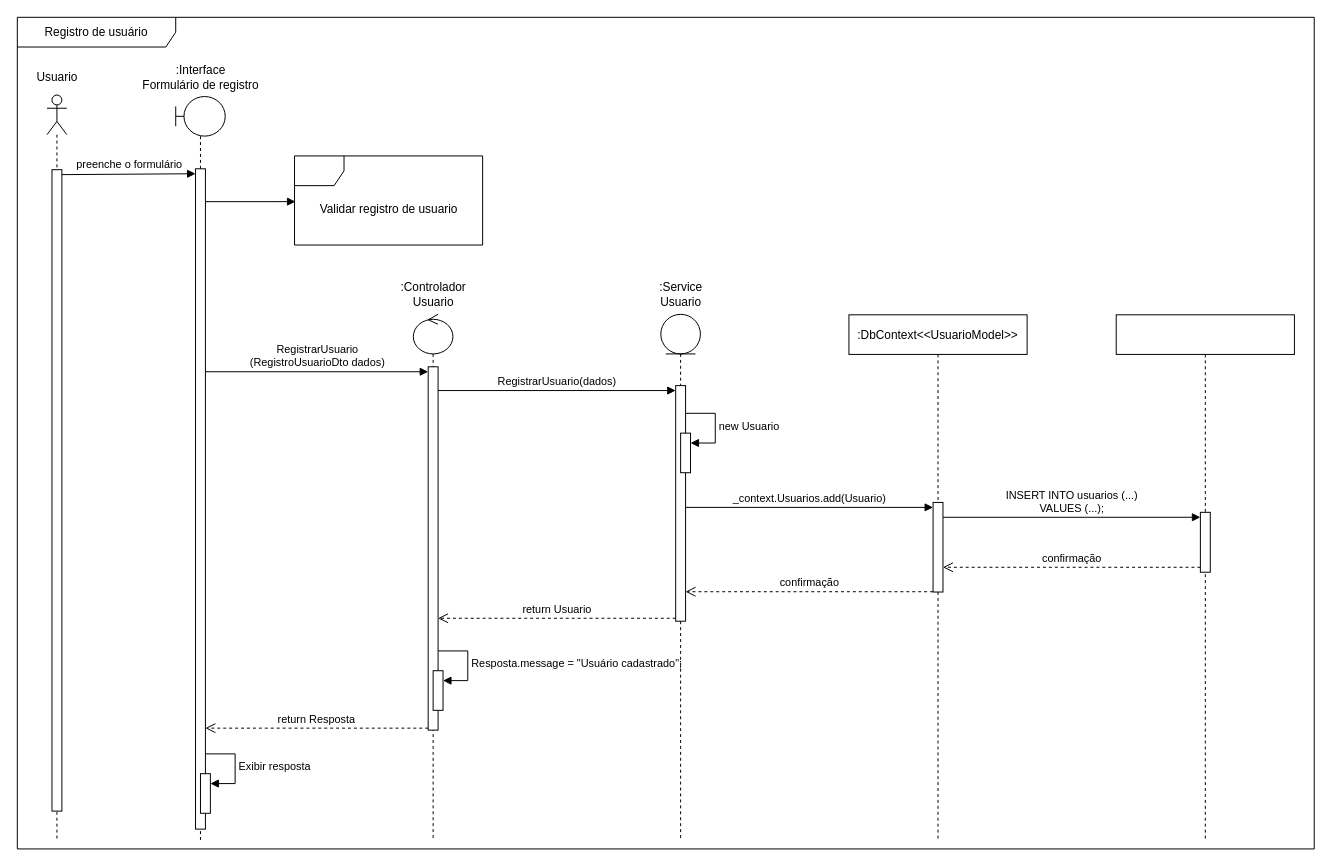
This 1332x866 diagram has some shape labels left out. The shapes that lost their labels are listed below. From the top down, each one's centre as x and y in pixels, then its label:
point 388,200: Ref
point 1204,576: :DB usuarios
